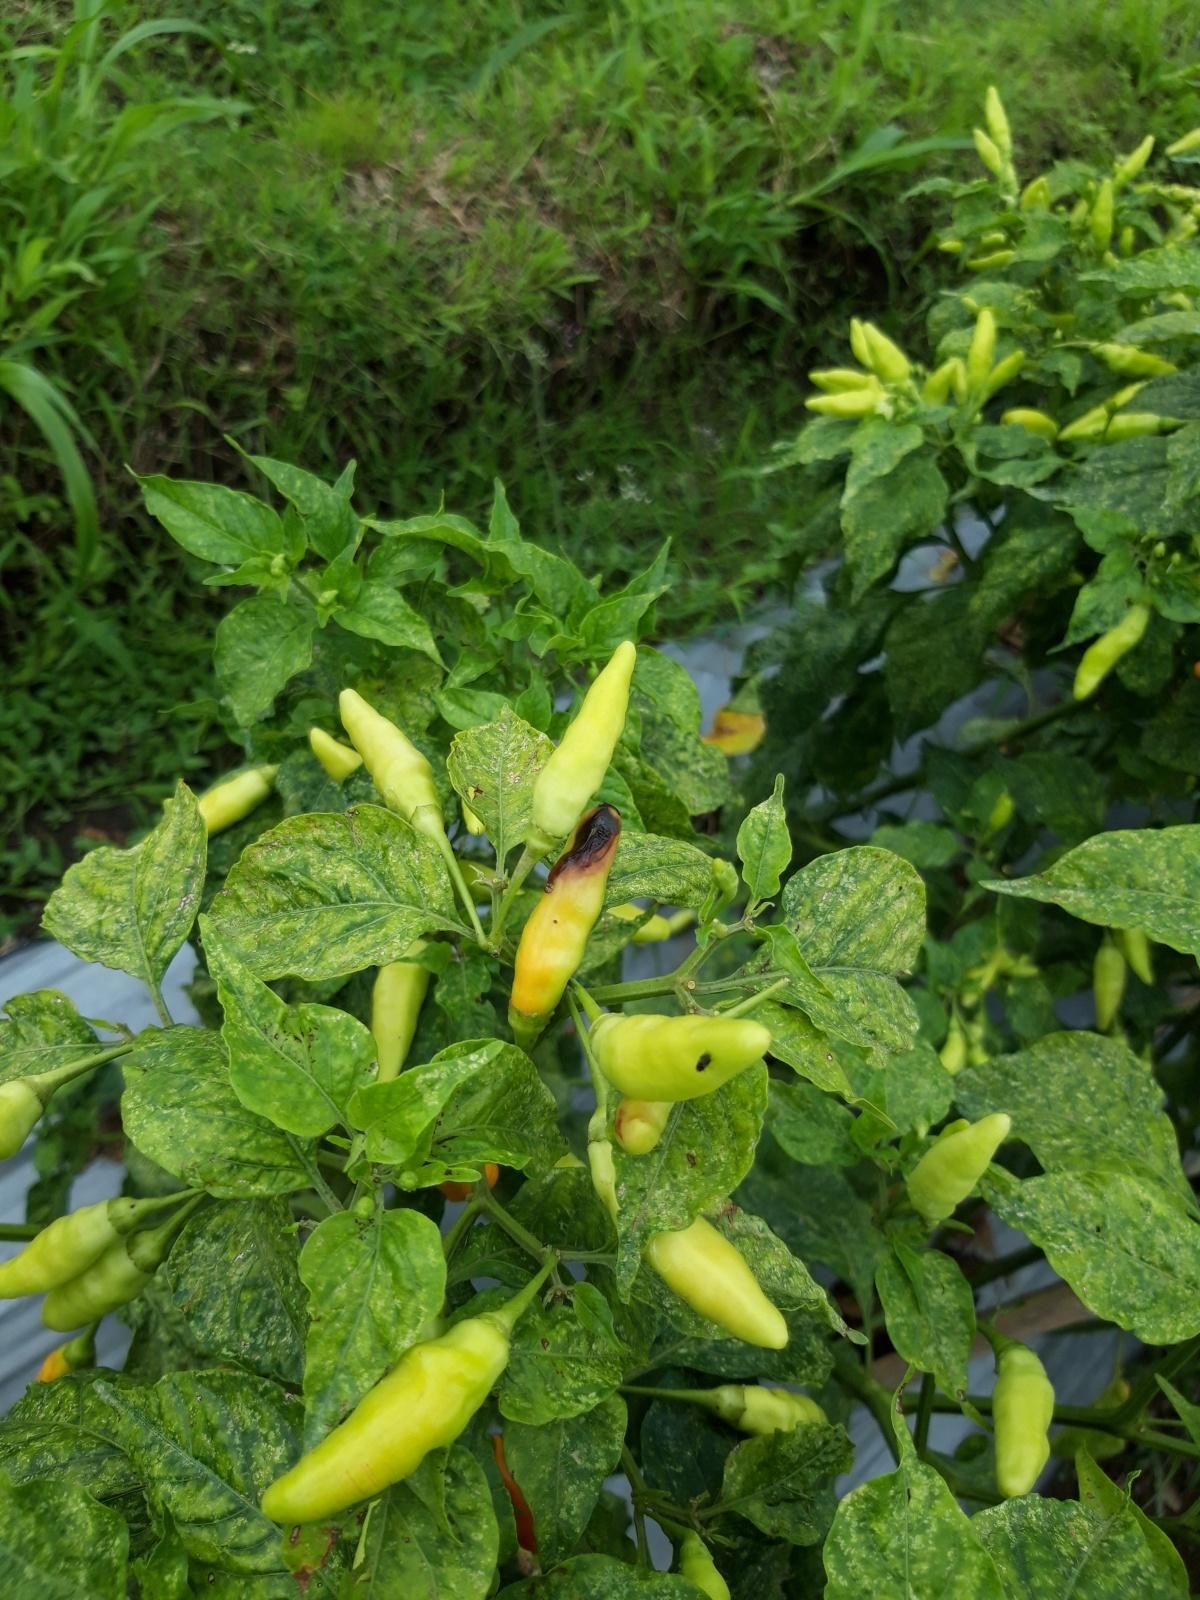cabai_normal: (262, 1311, 516, 1529), (586, 1111, 790, 1351), (526, 640, 637, 852), (587, 1010, 771, 1101), (338, 688, 436, 833), (40, 1225, 171, 1333), (1, 1196, 137, 1298), (903, 1107, 1011, 1233), (993, 1338, 1055, 1500), (1073, 592, 1152, 700), (715, 1390, 826, 1435), (863, 323, 914, 401), (1092, 940, 1127, 1031), (1090, 341, 1179, 375), (972, 127, 1017, 193), (966, 309, 998, 399), (1084, 414, 1174, 446), (805, 389, 897, 418), (978, 350, 1025, 406), (1114, 135, 1156, 184), (984, 84, 1011, 160), (1090, 178, 1114, 257), (1000, 407, 1058, 440), (805, 369, 879, 392)
lalat_buah: (507, 800, 624, 1033)
